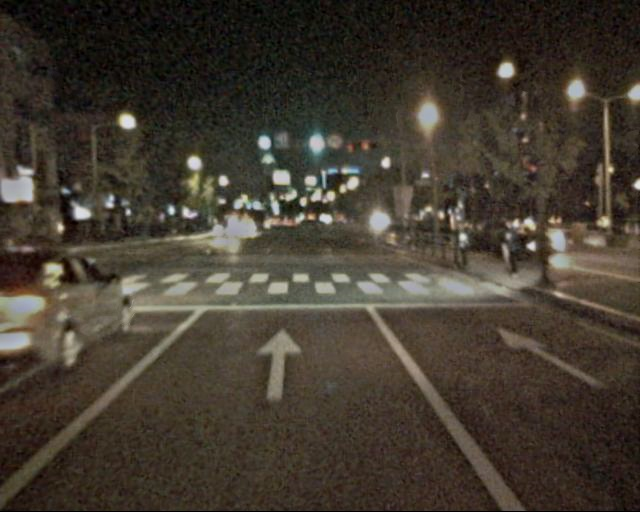person: (495, 216, 521, 280), (451, 223, 473, 277)
